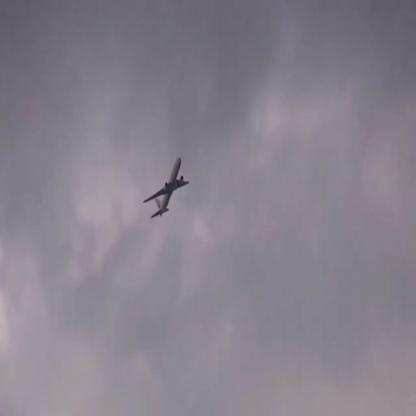CIV_Plane: (143, 156, 190, 218)
